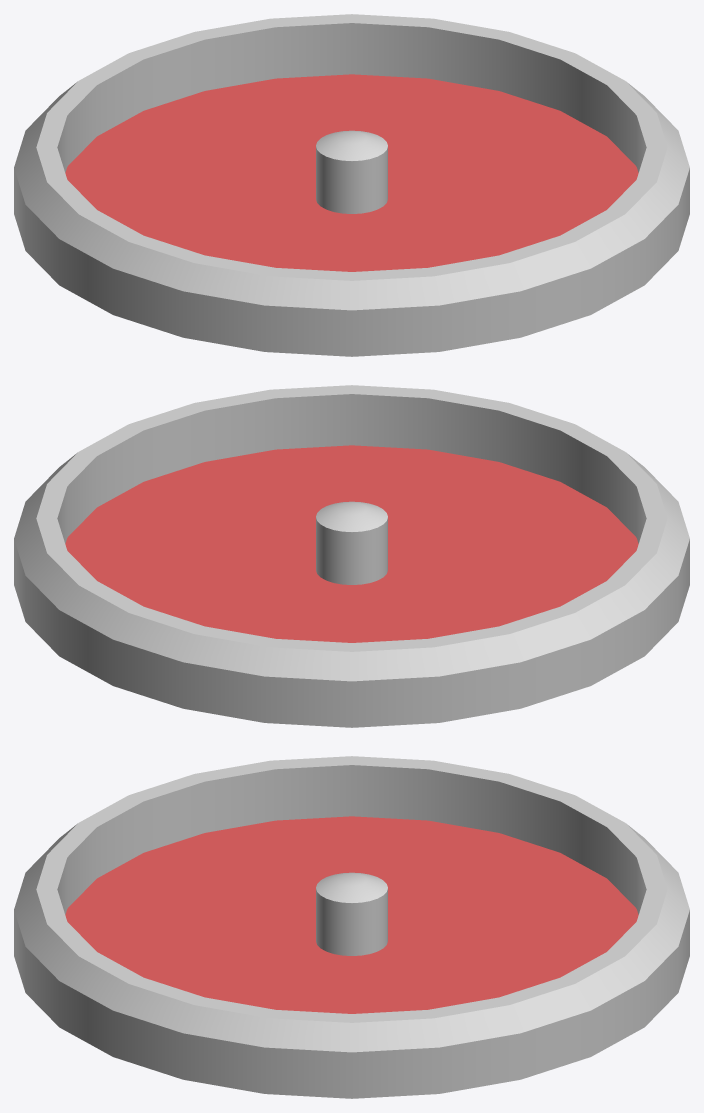
Rendered from Speedometer.fbx.
The picture shows the model from 3 angles, top to bottom: view 1: azimuth 30°, elevation 25°; view 2: azimuth 150°, elevation 25°; view 3: azimuth 270°, elevation 25°; orthographic projection.
Visible parts, largest first — view 1: Speedometer.001; view 2: Speedometer.001; view 3: Speedometer.001.
Part boxes in pixels (left/top/right/bottom): Speedometer.001: left=14, top=14, right=689, bottom=356; Speedometer.001: left=14, top=385, right=689, bottom=727; Speedometer.001: left=14, top=756, right=689, bottom=1098.
Bounding box in the file's own units: 0.7329 × 0.091 × 0.7329.
